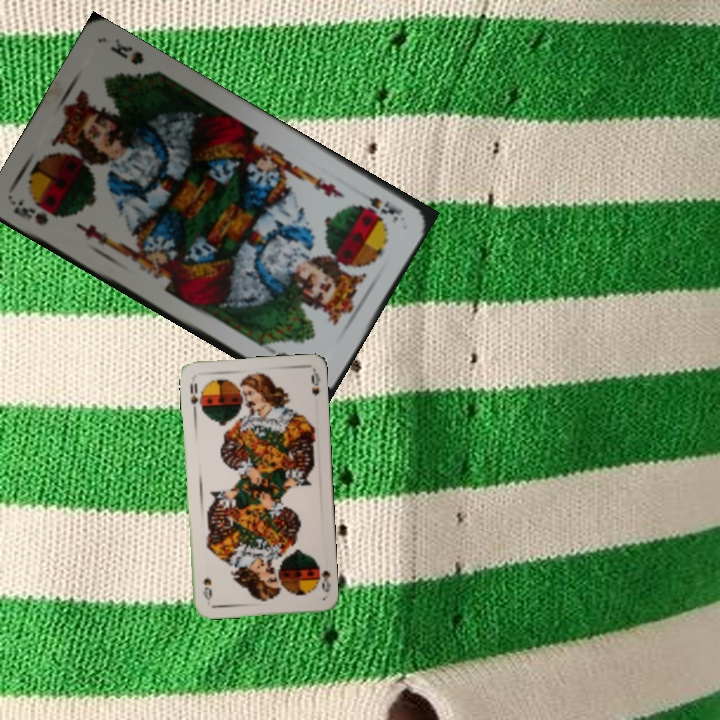SK: (352, 185, 405, 226), (9, 194, 52, 228)
SO: (312, 557, 333, 595), (186, 379, 204, 415)
